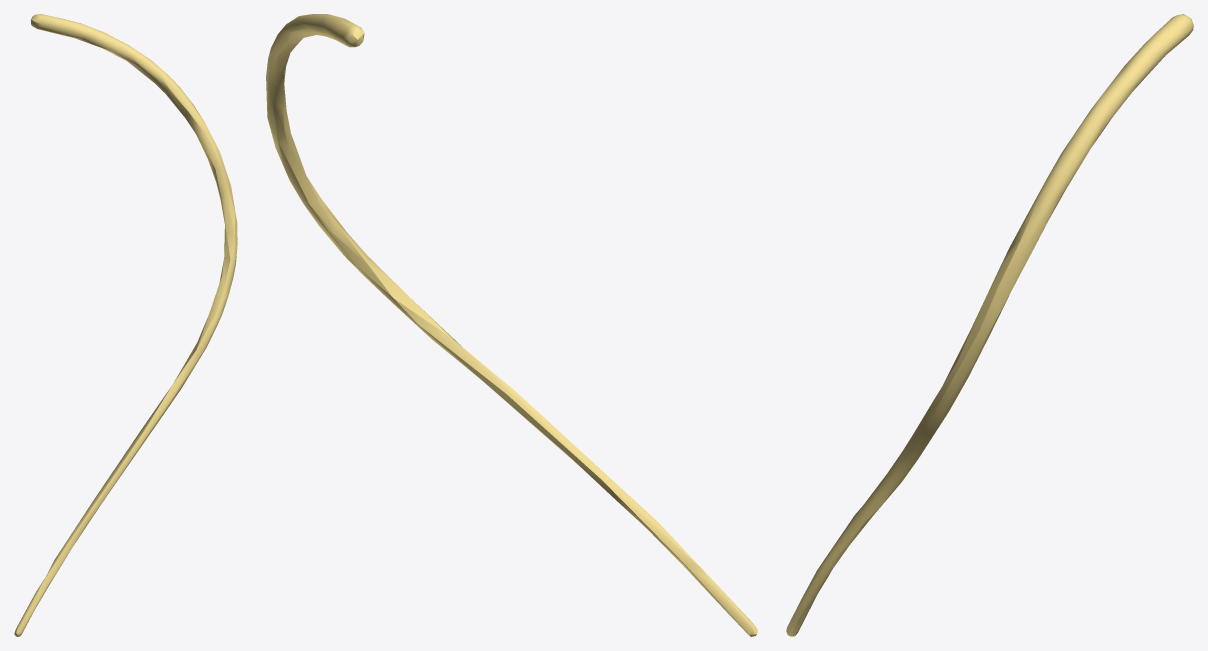
The model's file is fma52684_fj4029.glb.
3 renders of one model, left to right at view 1: azimuth 30°, elevation 25°; view 2: azimuth 150°, elevation 25°; view 3: azimuth 270°, elevation 25°, orthographic. The views are drawn at different scales.
Parts seen in each view (by area): view 1: FMA52684_FJ4029; view 2: FMA52684_FJ4029; view 3: FMA52684_FJ4029.
Part boxes in pixels (box(x1,y1,x2,y2)): FMA52684_FJ4029: box(14, 14, 237, 636); FMA52684_FJ4029: box(266, 14, 757, 636); FMA52684_FJ4029: box(786, 14, 1193, 636).
Size of the model in its own units: 0.00755 by 0.0127 by 0.00639.
